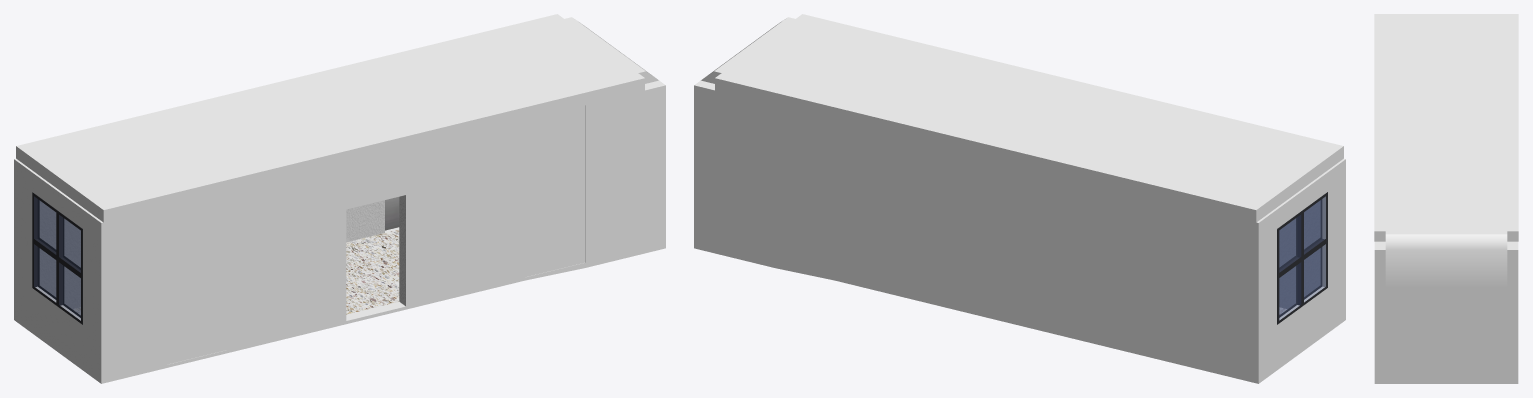
Rendered from Hall.fbx.
The picture shows the model from 3 angles, left to right: view 1: azimuth 30°, elevation 25°; view 2: azimuth 150°, elevation 25°; view 3: azimuth 270°, elevation 25°; orthographic projection. The views are drawn at different scales.
Parts seen in each view (by area): view 1: Window_Small_Orignal6; view 2: Window_Small_Orignal6; view 3: Window_Small_Orignal6.
Part boxes in pixels (x1=…): Window_Small_Orignal6: x1=14, y1=14, x2=665, y2=383; Window_Small_Orignal6: x1=694, y1=14, x2=1345, y2=383; Window_Small_Orignal6: x1=1374, y1=14, x2=1518, y2=383.
Bounding box in the file's own units: 177 × 52.69 × 47.68.
Materials: 3 (2 with a texture image).
